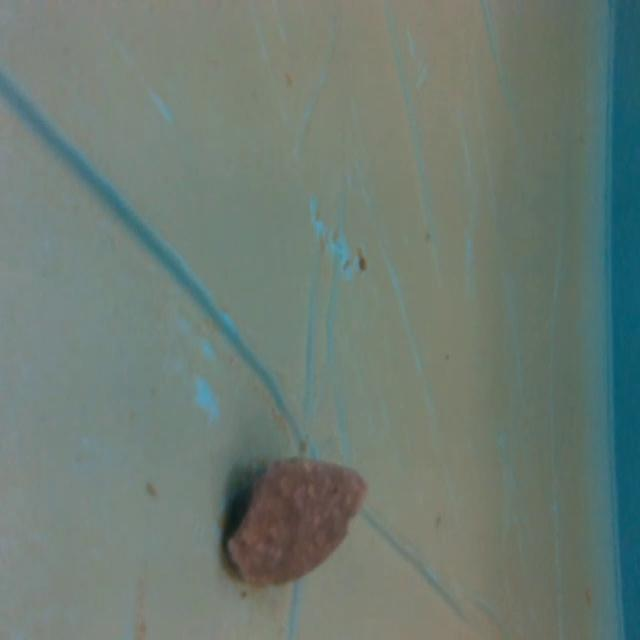rock: (220, 453, 376, 593)
